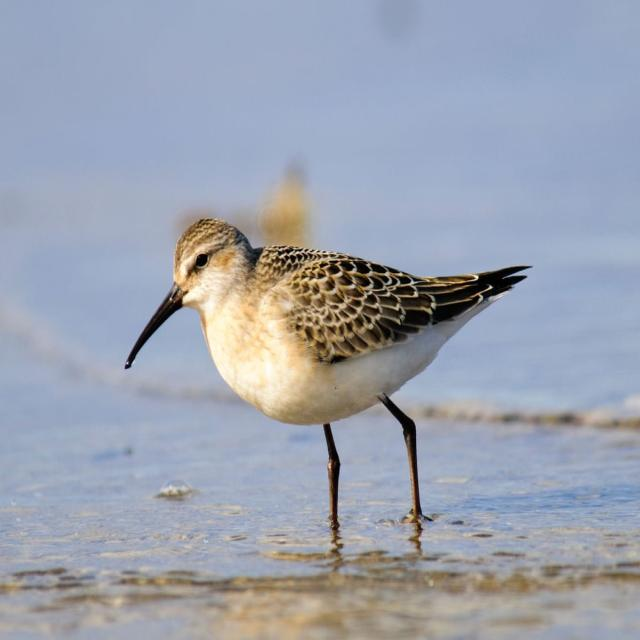Sandpiper: (122, 212, 507, 564)
